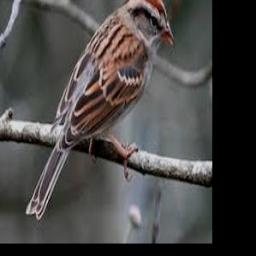Sparrow: (26, 0, 176, 221)
